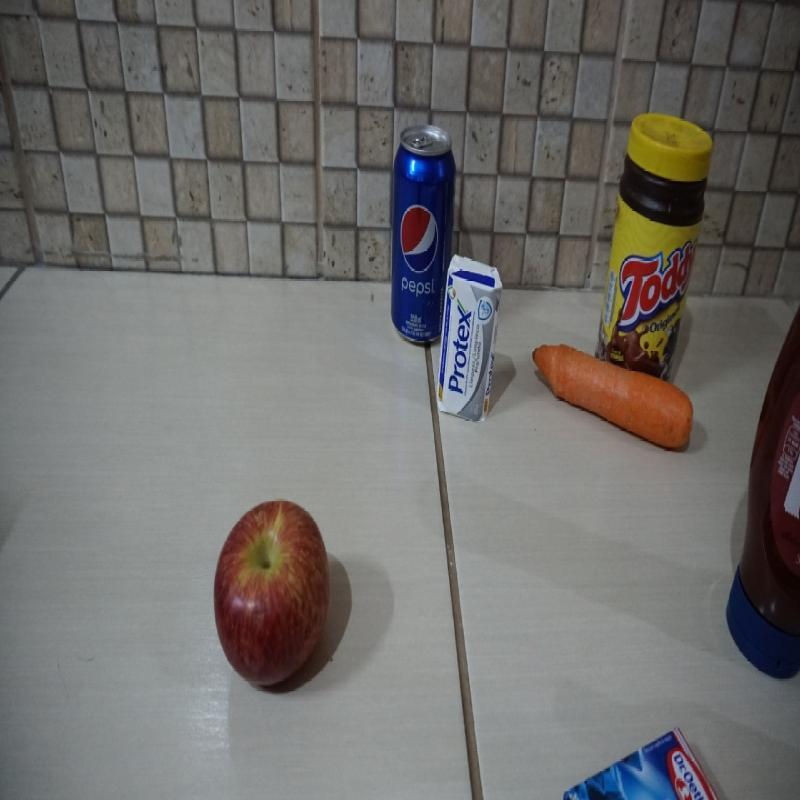Apple: (208, 494, 334, 685)
Carrot: (524, 343, 694, 454)
Chocolate Powder: (603, 106, 711, 340)
Gelatine: (565, 723, 720, 800)
Ketchup: (723, 309, 798, 694)
Soap: (442, 247, 502, 422)
Soda can: (388, 120, 443, 340)
